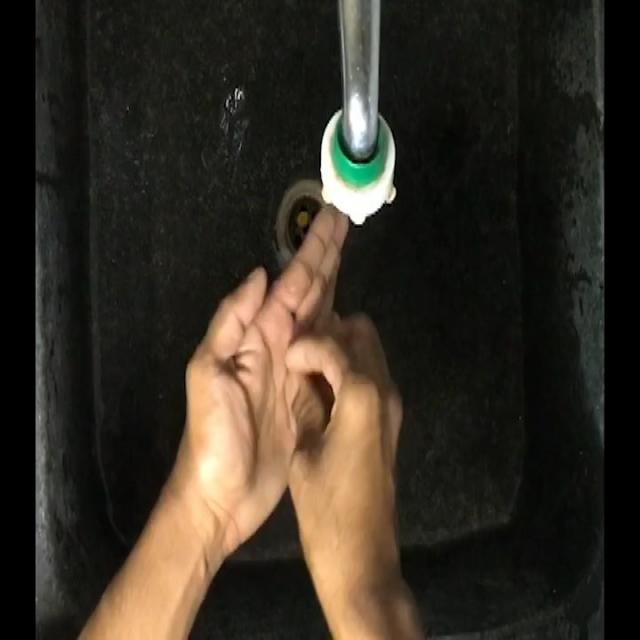step_6: (181, 188, 412, 582)
